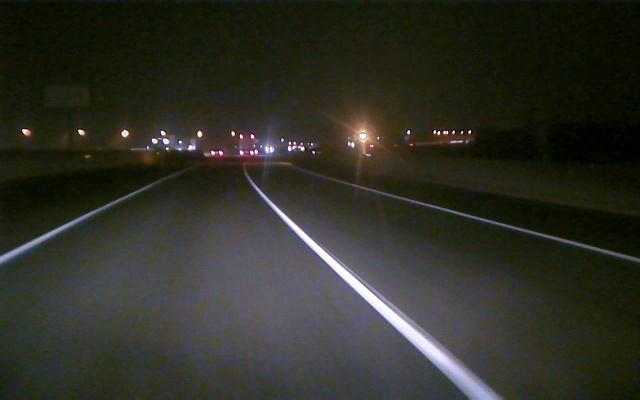lane: (254, 184, 500, 396), (347, 185, 640, 264), (2, 184, 150, 264)
